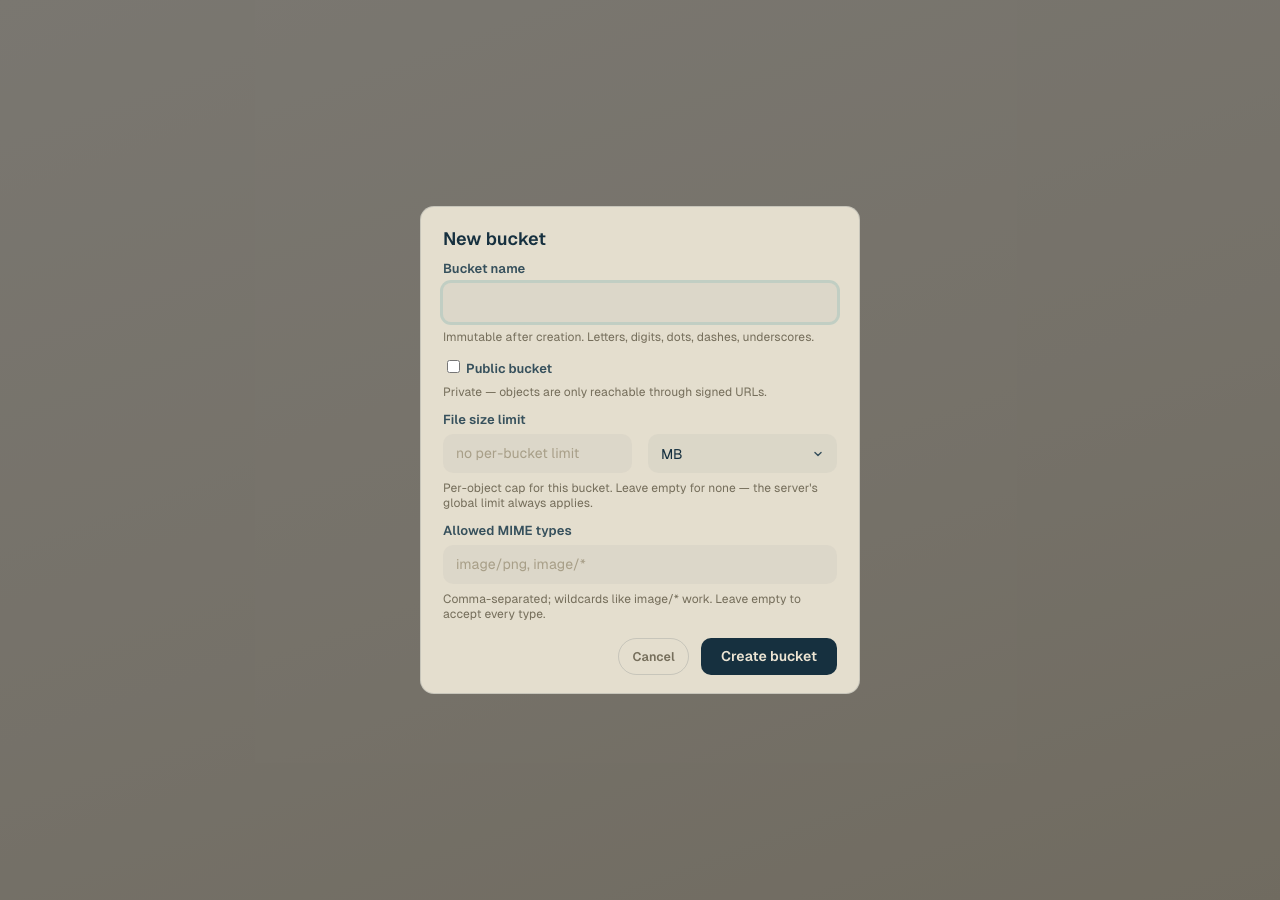
Scenario: BucketFormDialog (create) › rejects a size limit that is not a whole number of bytes
The width and height of the screenshot is (1280, 900).
Type "assets" into the field labelled "Bucket name". click: (640, 303)
box: [443,283,837,322]
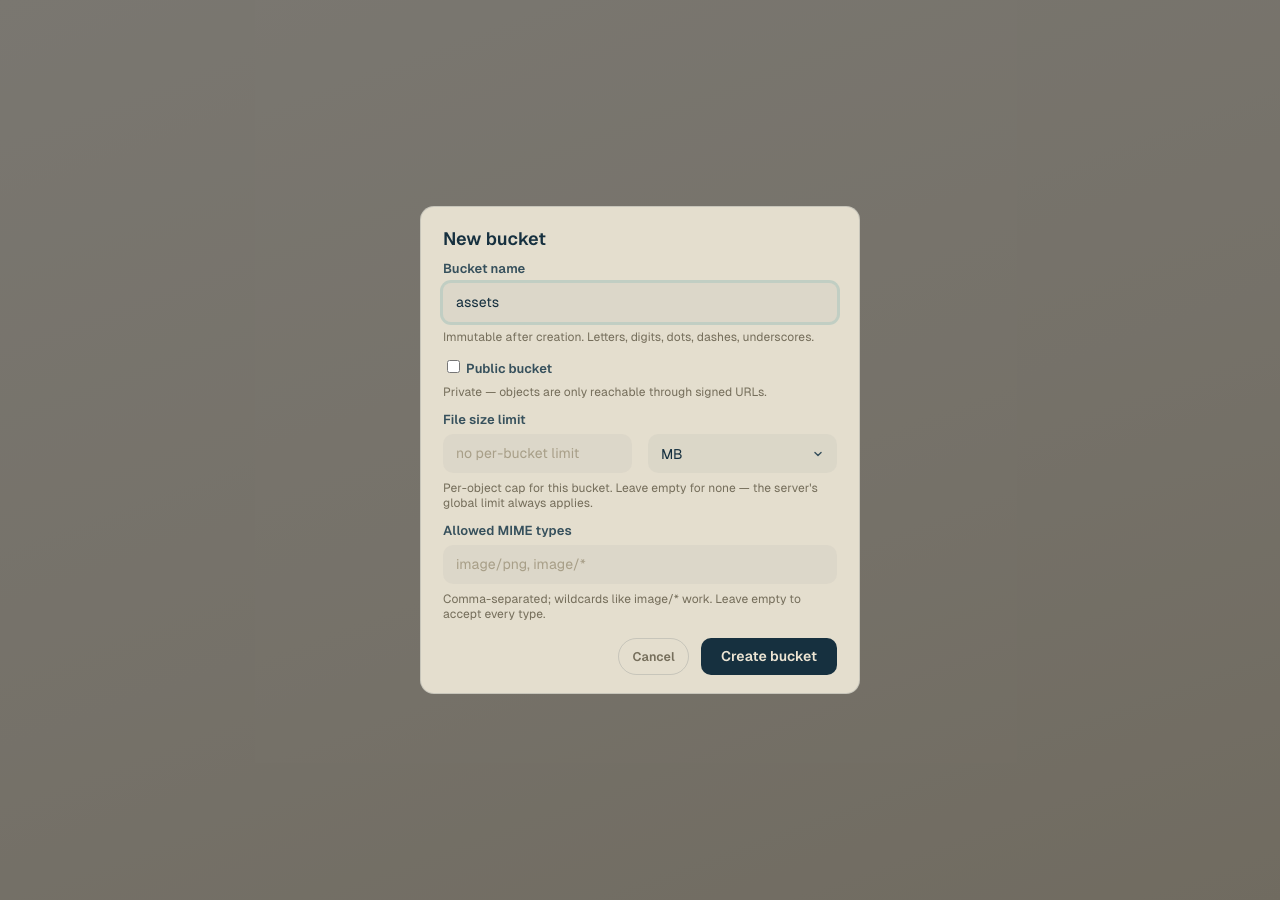
Type "0.5" into the number field labelled "File size limit". click: (538, 454)
box: [443,434,632,473]
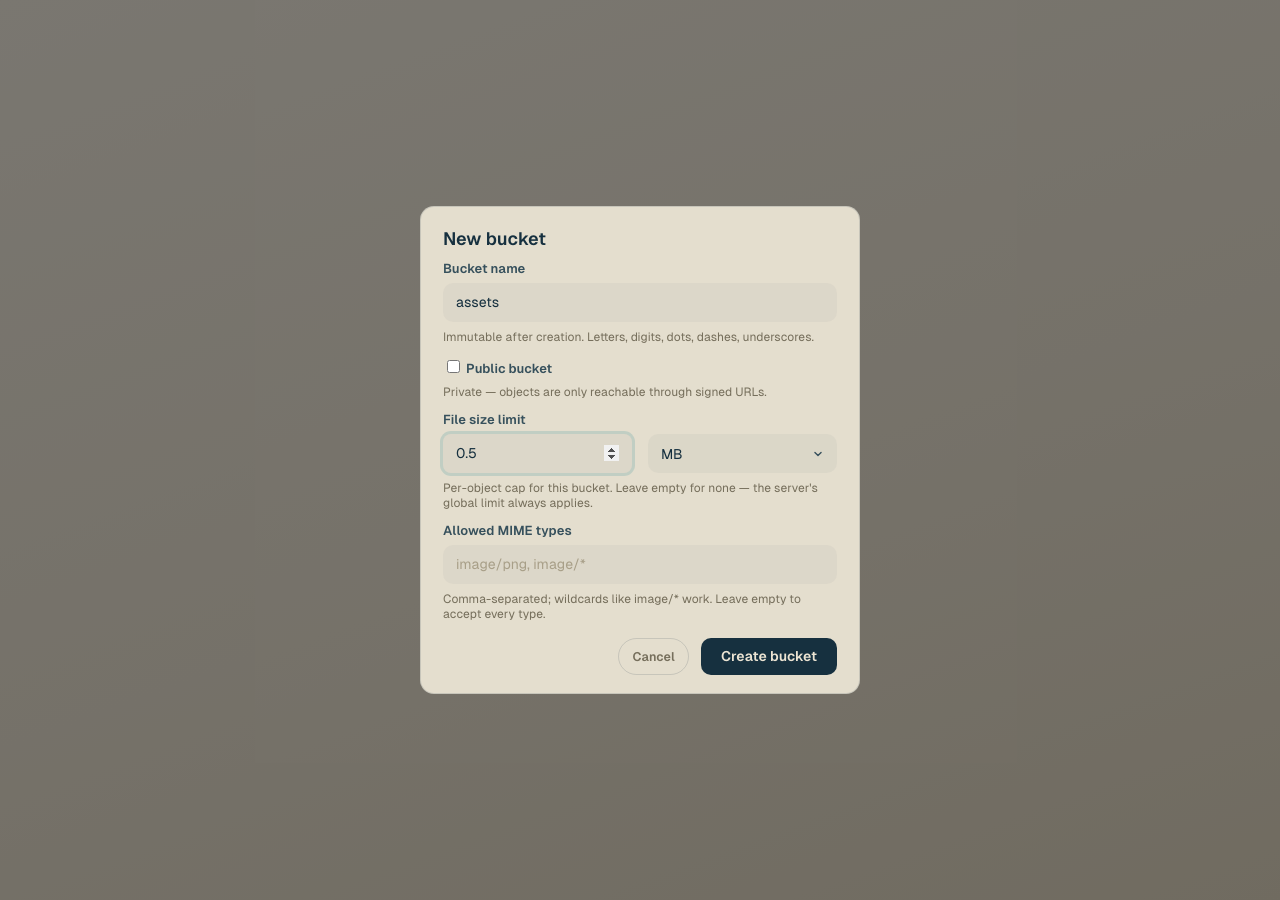
Select "bytes" in the dropdown named "Unit". click: (742, 454)
box: [648,434,837,473]
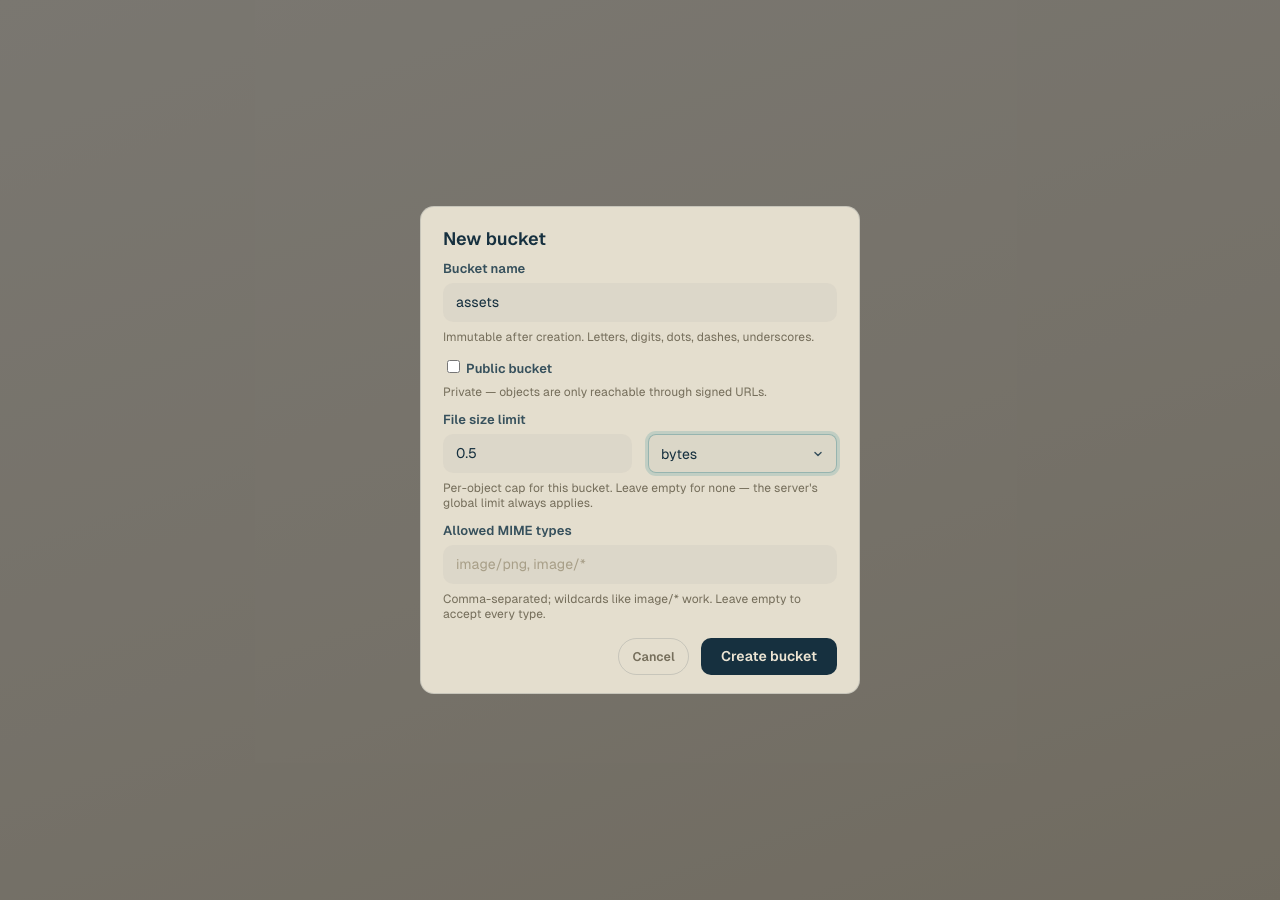
Click the button "Create bucket". click: (769, 657)
box: [701,638,837,675]
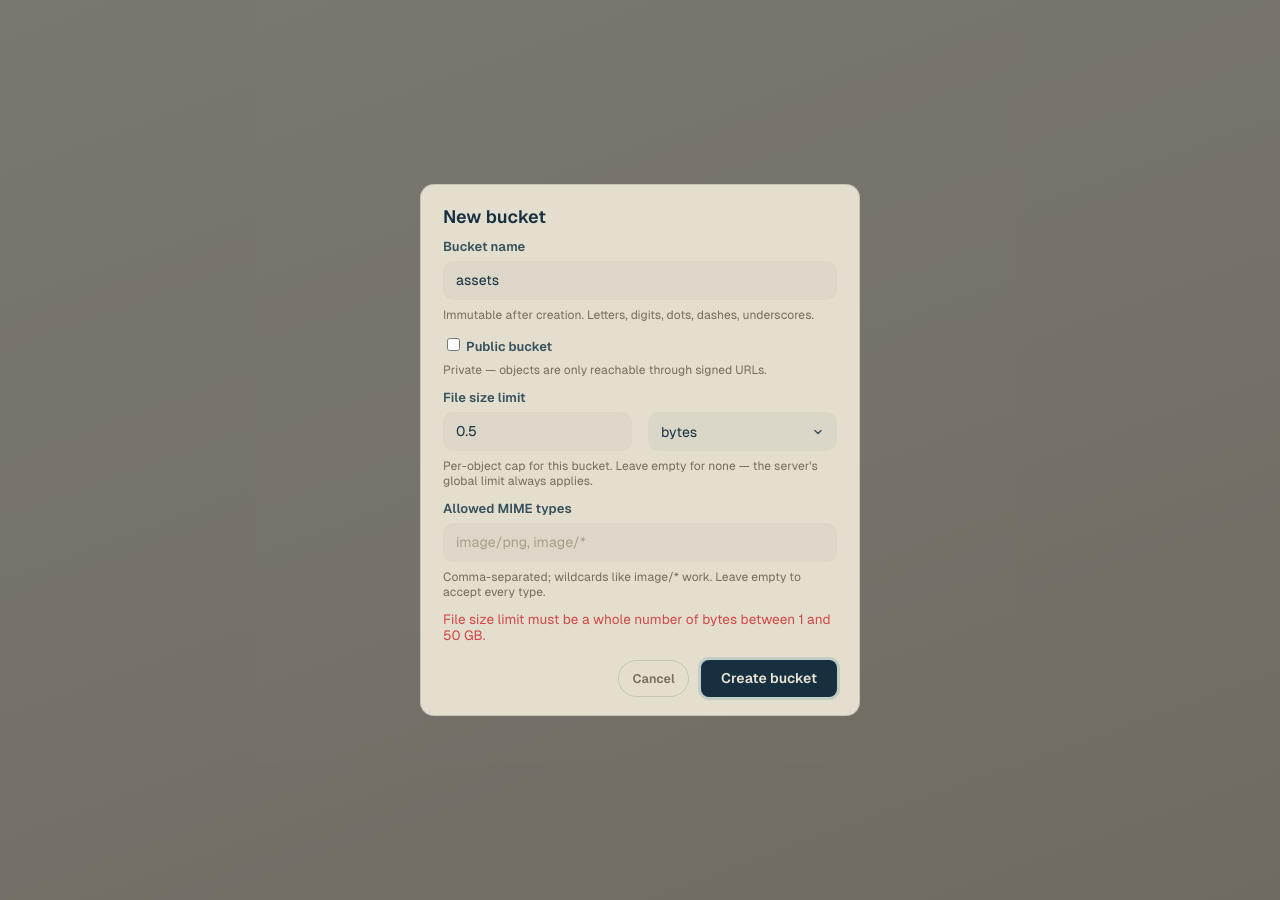
Expected: the message shows "whole number of bytes", [443,612,830,643]
